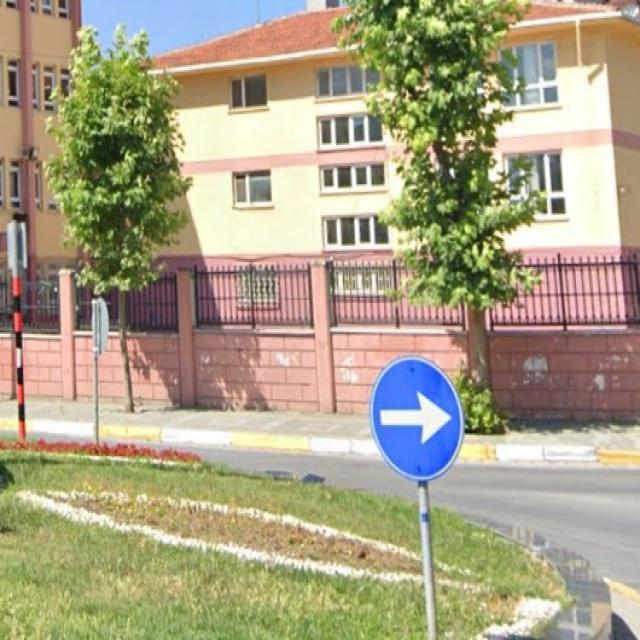Turn Right: (368, 361, 464, 488)
